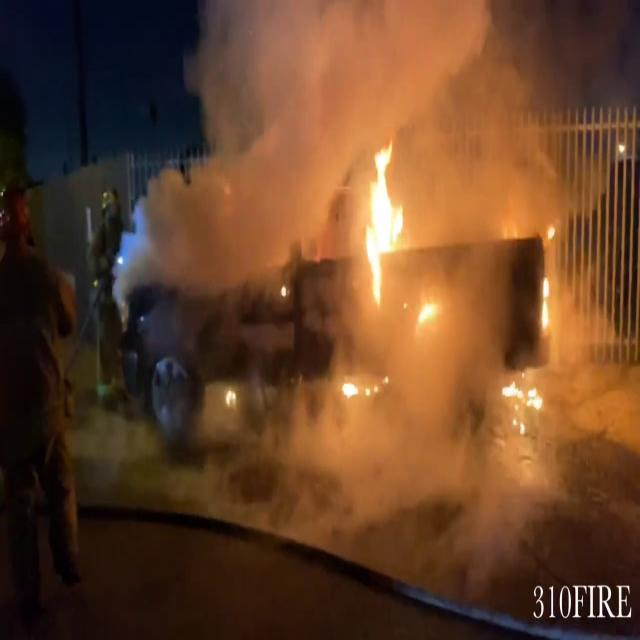Fire: (354, 131, 410, 301)
Smoke: (119, 0, 608, 246), (266, 239, 541, 493)
